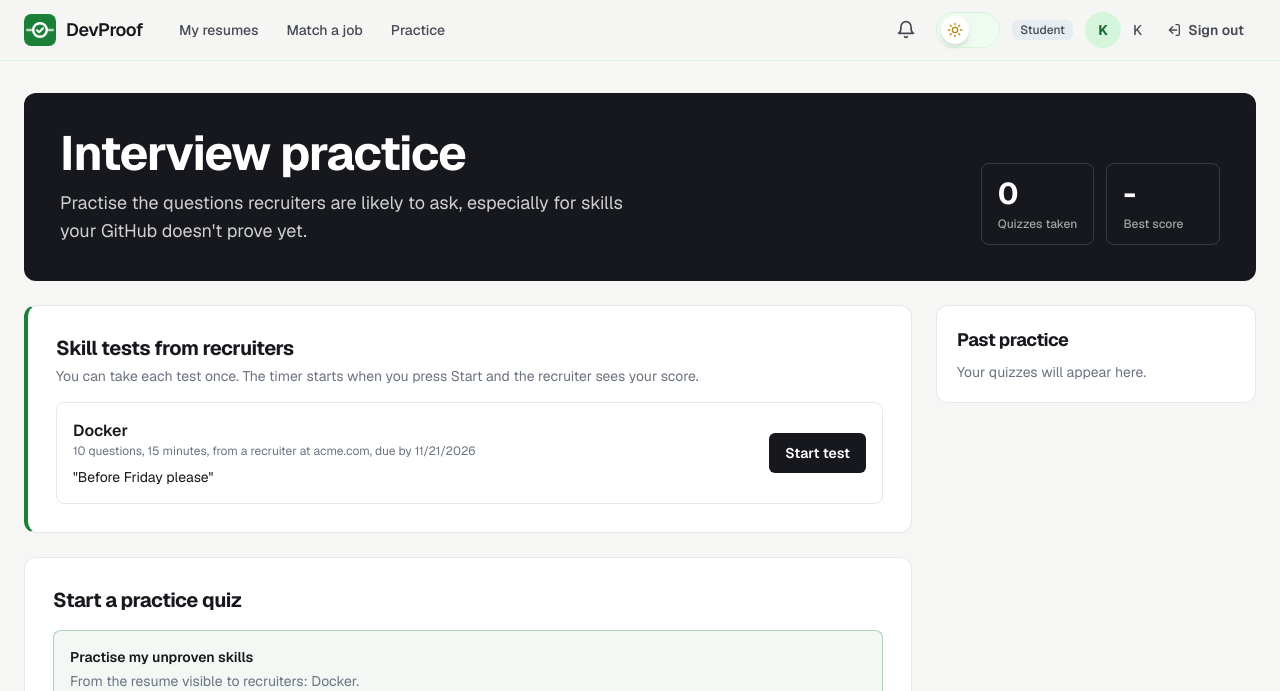
Test: Practice page › takes a recruiter's skill test from the Practice page
Expected: the text "from a recruiter at acme.com" is shown, 207,443 -> 370,459
Expected: the text "\"Before Friday please\"" is shown, 73,468 -> 213,486
Click the button "Start test" at (818, 453), box 769,433 -> 866,473
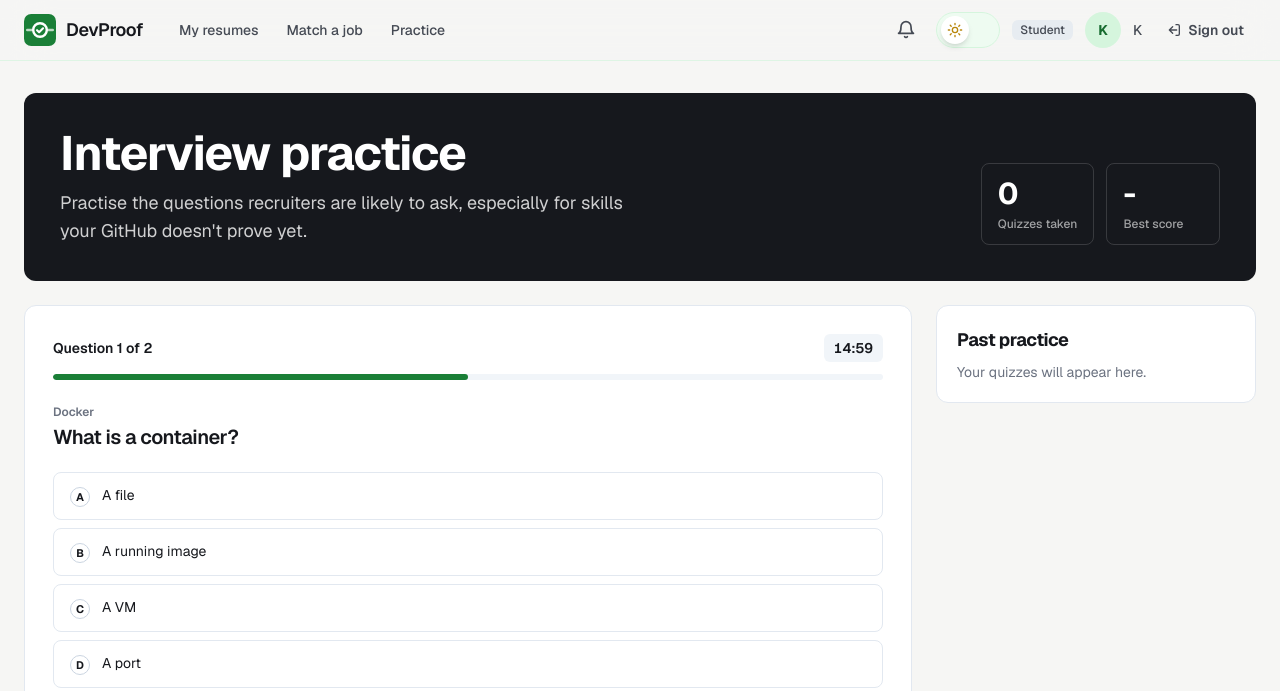
Now the text "Question 1 of 2" is shown, box 53,338 -> 152,358
Click the radio button labelled "B A running image" at (154, 550), box 53,528 -> 883,576
(page scrolled)
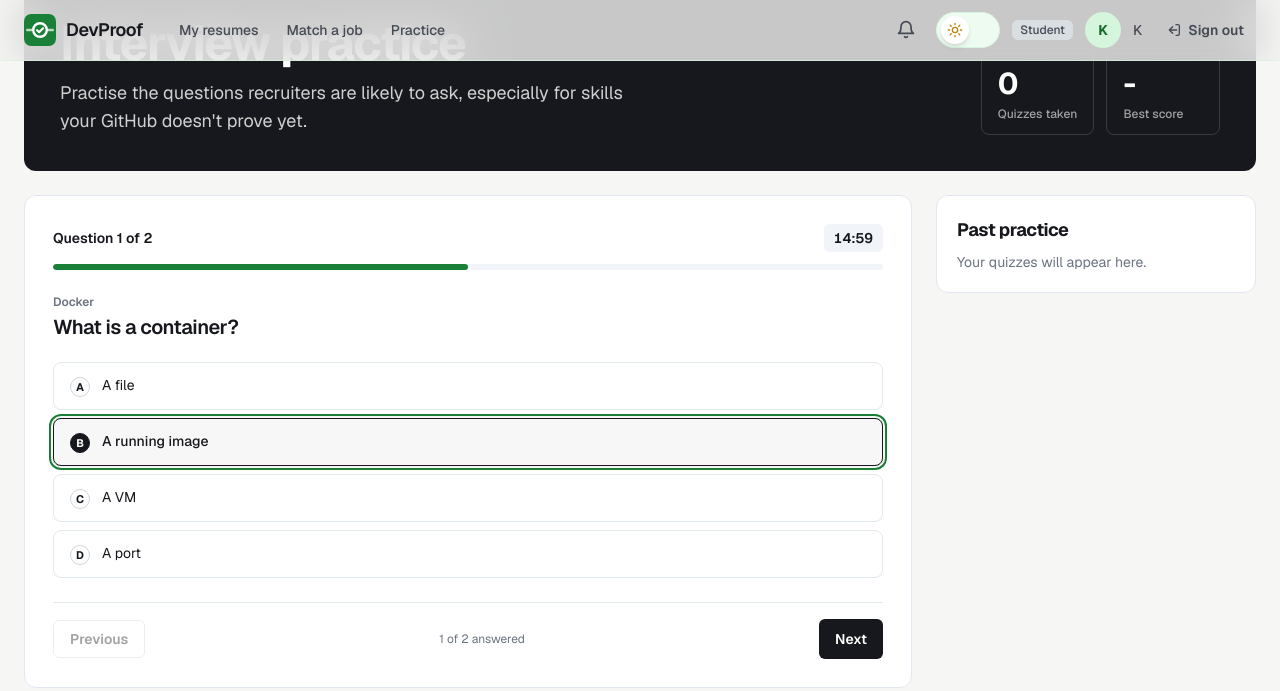
Click the button "Next" at (851, 638), box 819,618 -> 883,658
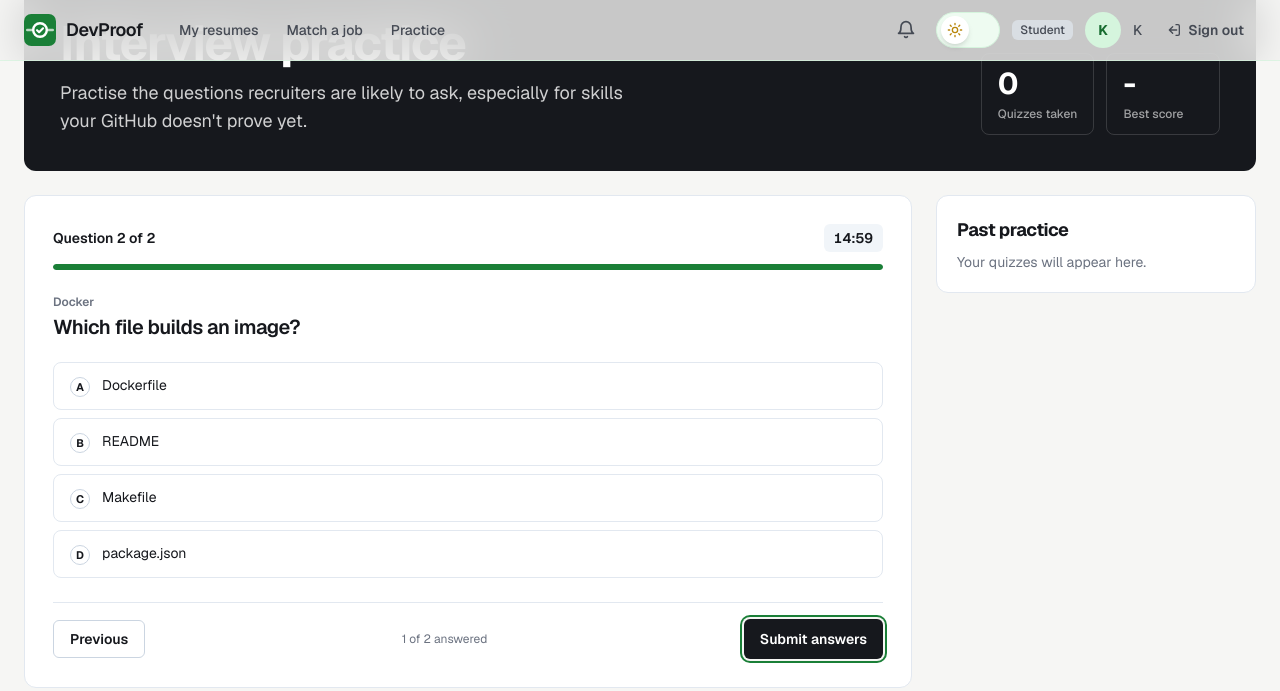
Click the button "Submit answers" at (813, 638), box 744,618 -> 883,658
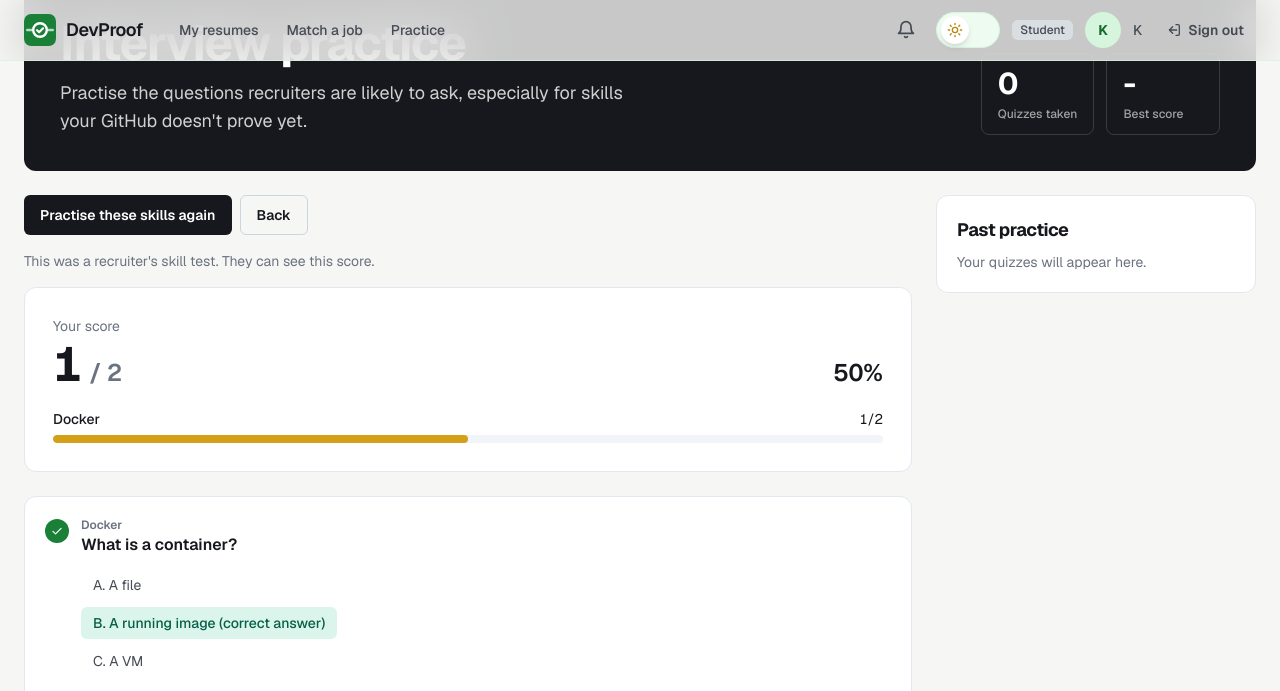
Now the text "This was a recruiter's skill test. They can see this score." is shown, box 24,252 -> 374,270
